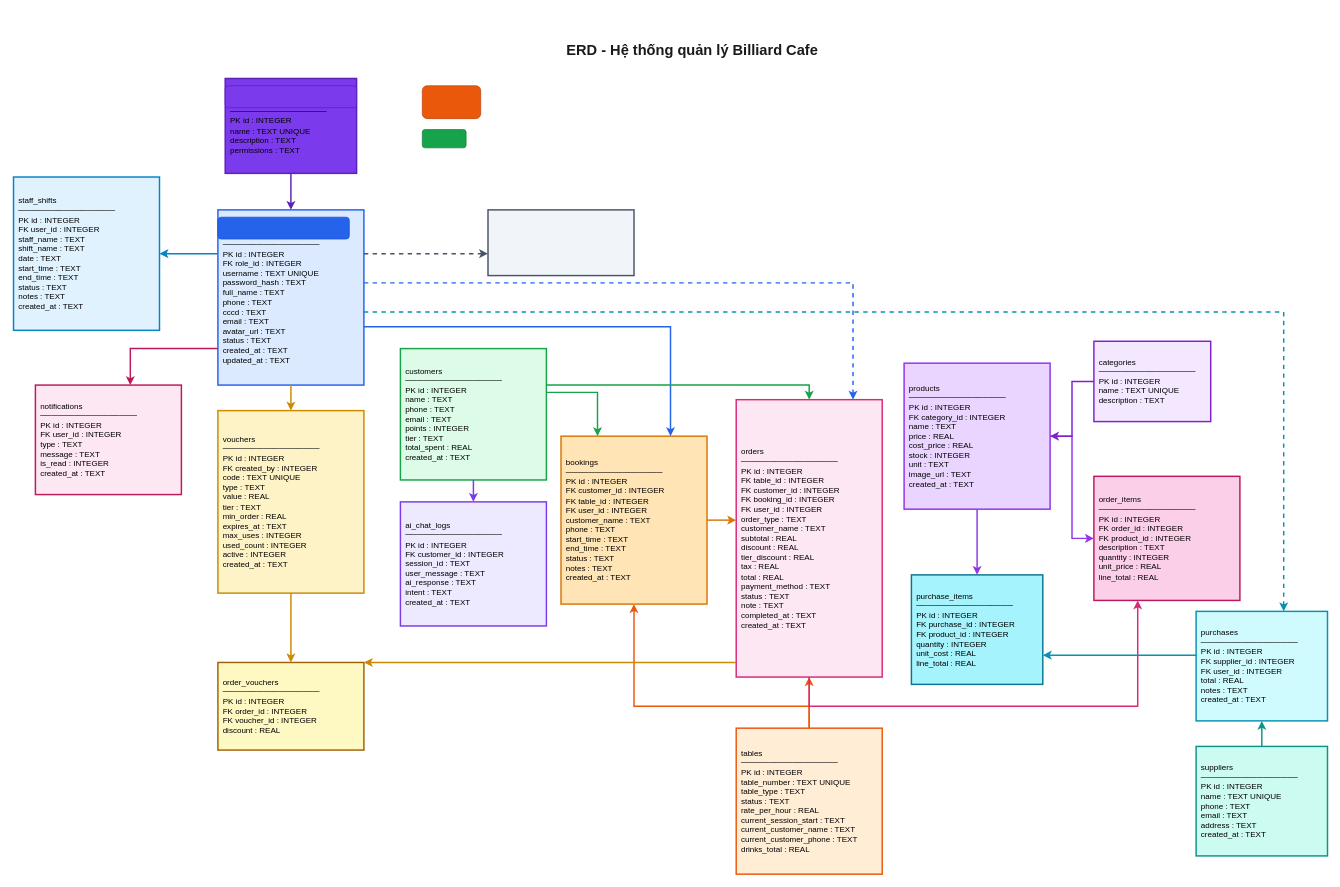
The diagram is 1340 pixels wide and 887 high, and some of its shapes have lost their labels. Each missing label, with the centre of its shape:
"Nhân viên (Staff)" belongs at [451,102].
"Quản lý (Manager)" belongs at [283,227].
"Quản trị viên (Admin)" belongs at [290,96].
"settings ───────────────── PK key : TEXT value : TEXT FK user_id : INTEGER" belongs at [560,242].
"Thu ngân (Cashier)" belongs at [444,138].
